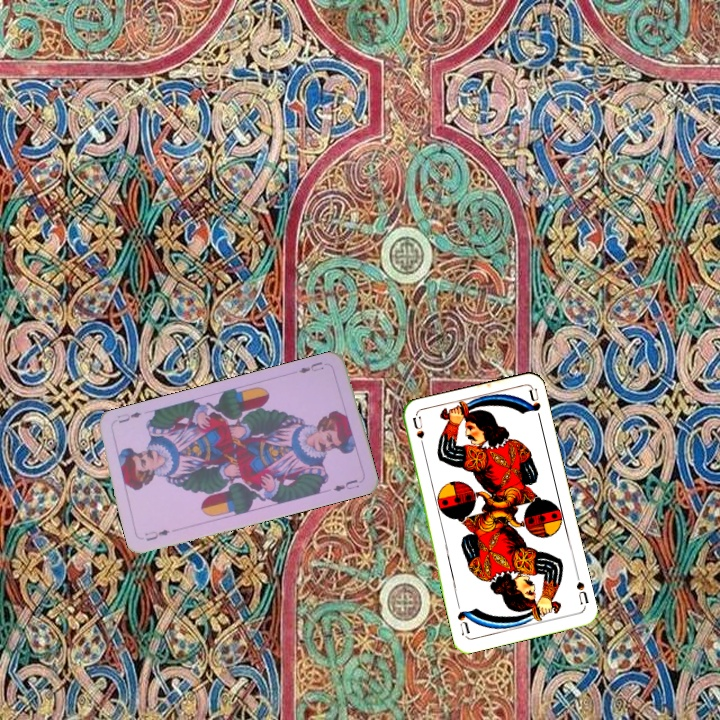EU: (295, 357, 326, 376), (141, 525, 172, 544)
SU: (408, 413, 428, 454), (572, 577, 591, 607)
